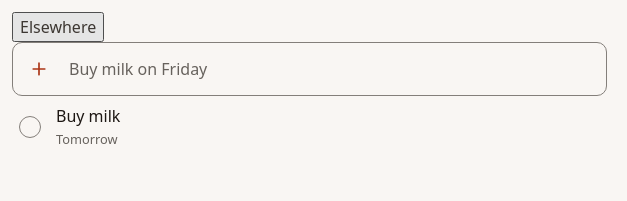
QuickAdd › shows the repeat in the chip
Type "Buy eggs every Monday" into the field named "Add a task".
click(331, 69); type("Buy eggs every Monday")  # box [69,47,594,91]
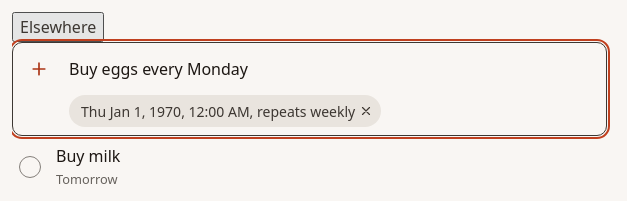
Expected: the button with aria-label "Remove date" shows "repeats weekly", [69,95,381,127]
